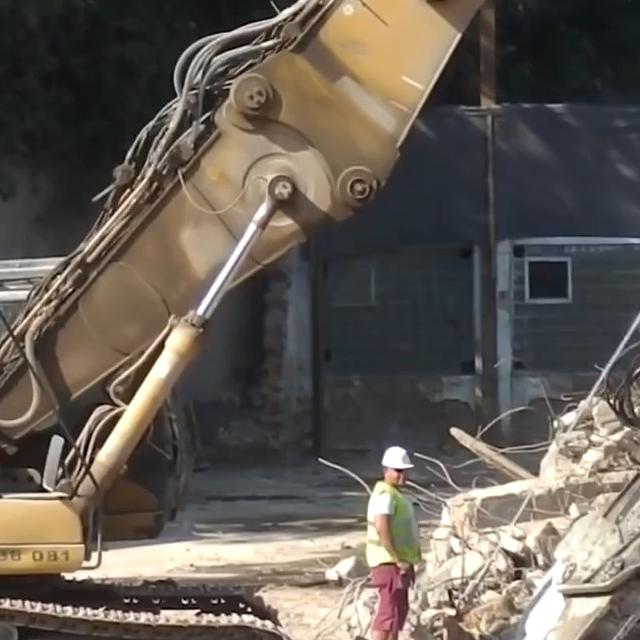Excavator: (0, 0, 640, 640)
Hardhat: (380, 446, 414, 470)
NO-Mask: (389, 474, 407, 487)
Person: (360, 442, 420, 640)
Safety Vest: (366, 491, 418, 566)
